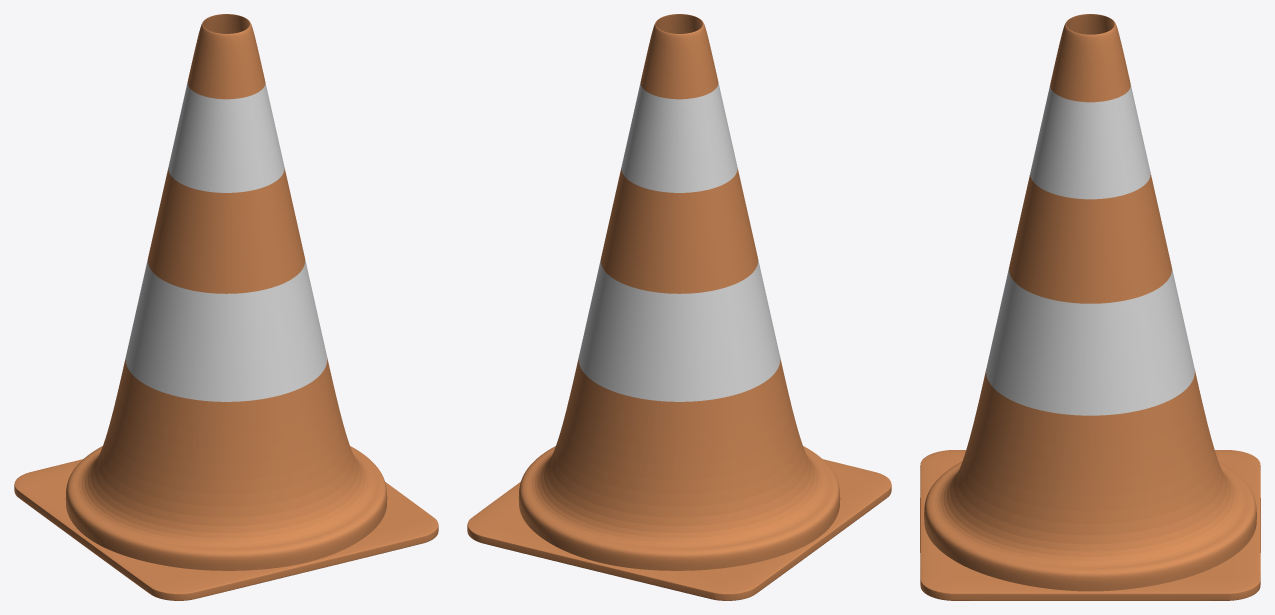
3 renders of one model, left to right at view 1: azimuth 30°, elevation 25°; view 2: azimuth 150°, elevation 25°; view 3: azimuth 270°, elevation 25°, orthographic. The views are drawn at different scales.
Visible parts, largest first — view 1: Cone, Socle; view 2: Cone, Socle; view 3: Cone, Socle.
Part boxes in pixels (bbox=[...]): Cone: bbox=[65, 14, 387, 570]; Socle: bbox=[14, 459, 438, 600]; Cone: bbox=[518, 14, 840, 570]; Socle: bbox=[467, 459, 891, 600]; Cone: bbox=[924, 14, 1256, 591]; Socle: bbox=[920, 450, 1260, 600].
Bounding box in the file's own units: 116 × 190 × 116.
